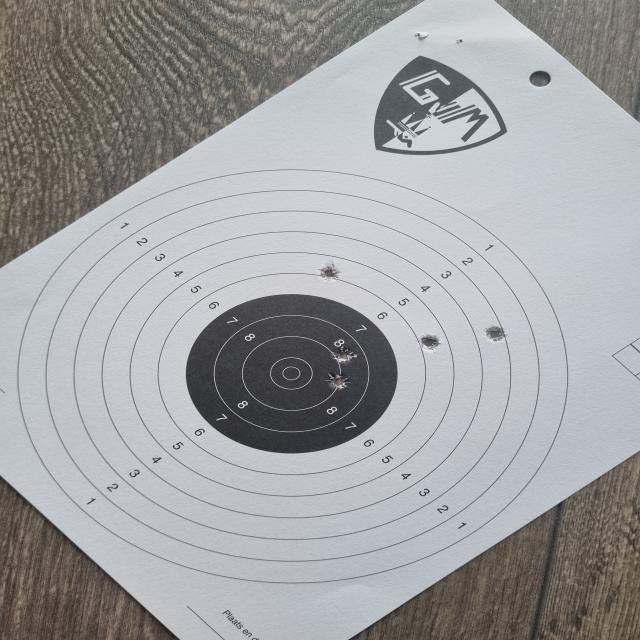3: (482, 324, 506, 342)
6: (316, 263, 341, 283), (417, 333, 441, 352)
9: (328, 346, 357, 364), (325, 372, 351, 389)
Target: (17, 168, 570, 584)
black_contour: (187, 294, 398, 454)
